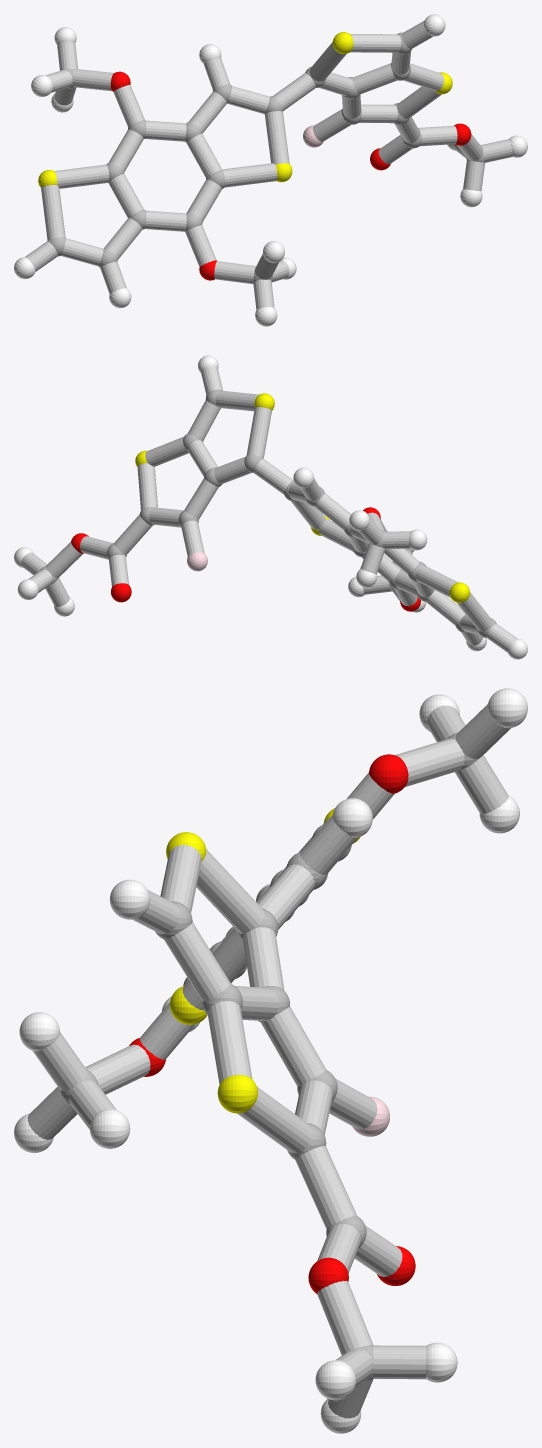
Rendered from color.glb.
The picture shows the model from 3 angles, top to bottom: view 1: azimuth 30°, elevation 25°; view 2: azimuth 150°, elevation 25°; view 3: azimuth 270°, elevation 25°; orthographic projection. The views are drawn at different scales.
Parts seen in each view (by area): view 1: grp15205, grp8689, grp1, grp7241, grp13395; view 2: grp15205, grp8689, grp1, grp7241, grp13395; view 3: grp15205, grp8689, grp1, grp13395, grp7241.
Part boxes in pixels (x1=…): grp15205: x1=25, y1=21, x2=512, y2=309; grp8689: x1=14, y1=14, x2=527, y2=326; grp1: x1=47, y1=32, x2=484, y2=281; grp7241: x1=38, y1=32, x2=452, y2=187; grp13395: x1=110, y1=71, x2=471, y2=280; grp15205: x1=21, y1=366, x2=517, y2=652; grp8689: x1=14, y1=355, x2=527, y2=659; grp1: x1=40, y1=389, x2=496, y2=637; grp7241: x1=135, y1=393, x2=470, y2=603; grp13395: x1=71, y1=507, x2=420, y2=611; grp15205: x1=27, y1=704, x2=510, y2=1418; grp8689: x1=14, y1=688, x2=527, y2=1433; grp1: x1=59, y1=732, x2=478, y2=1381; grp13395: x1=129, y1=754, x2=415, y2=1293; grp7241: x1=166, y1=808, x2=360, y2=1113.
Bounding box in the file's own units: 16.4 × 7.62 × 7.61.
